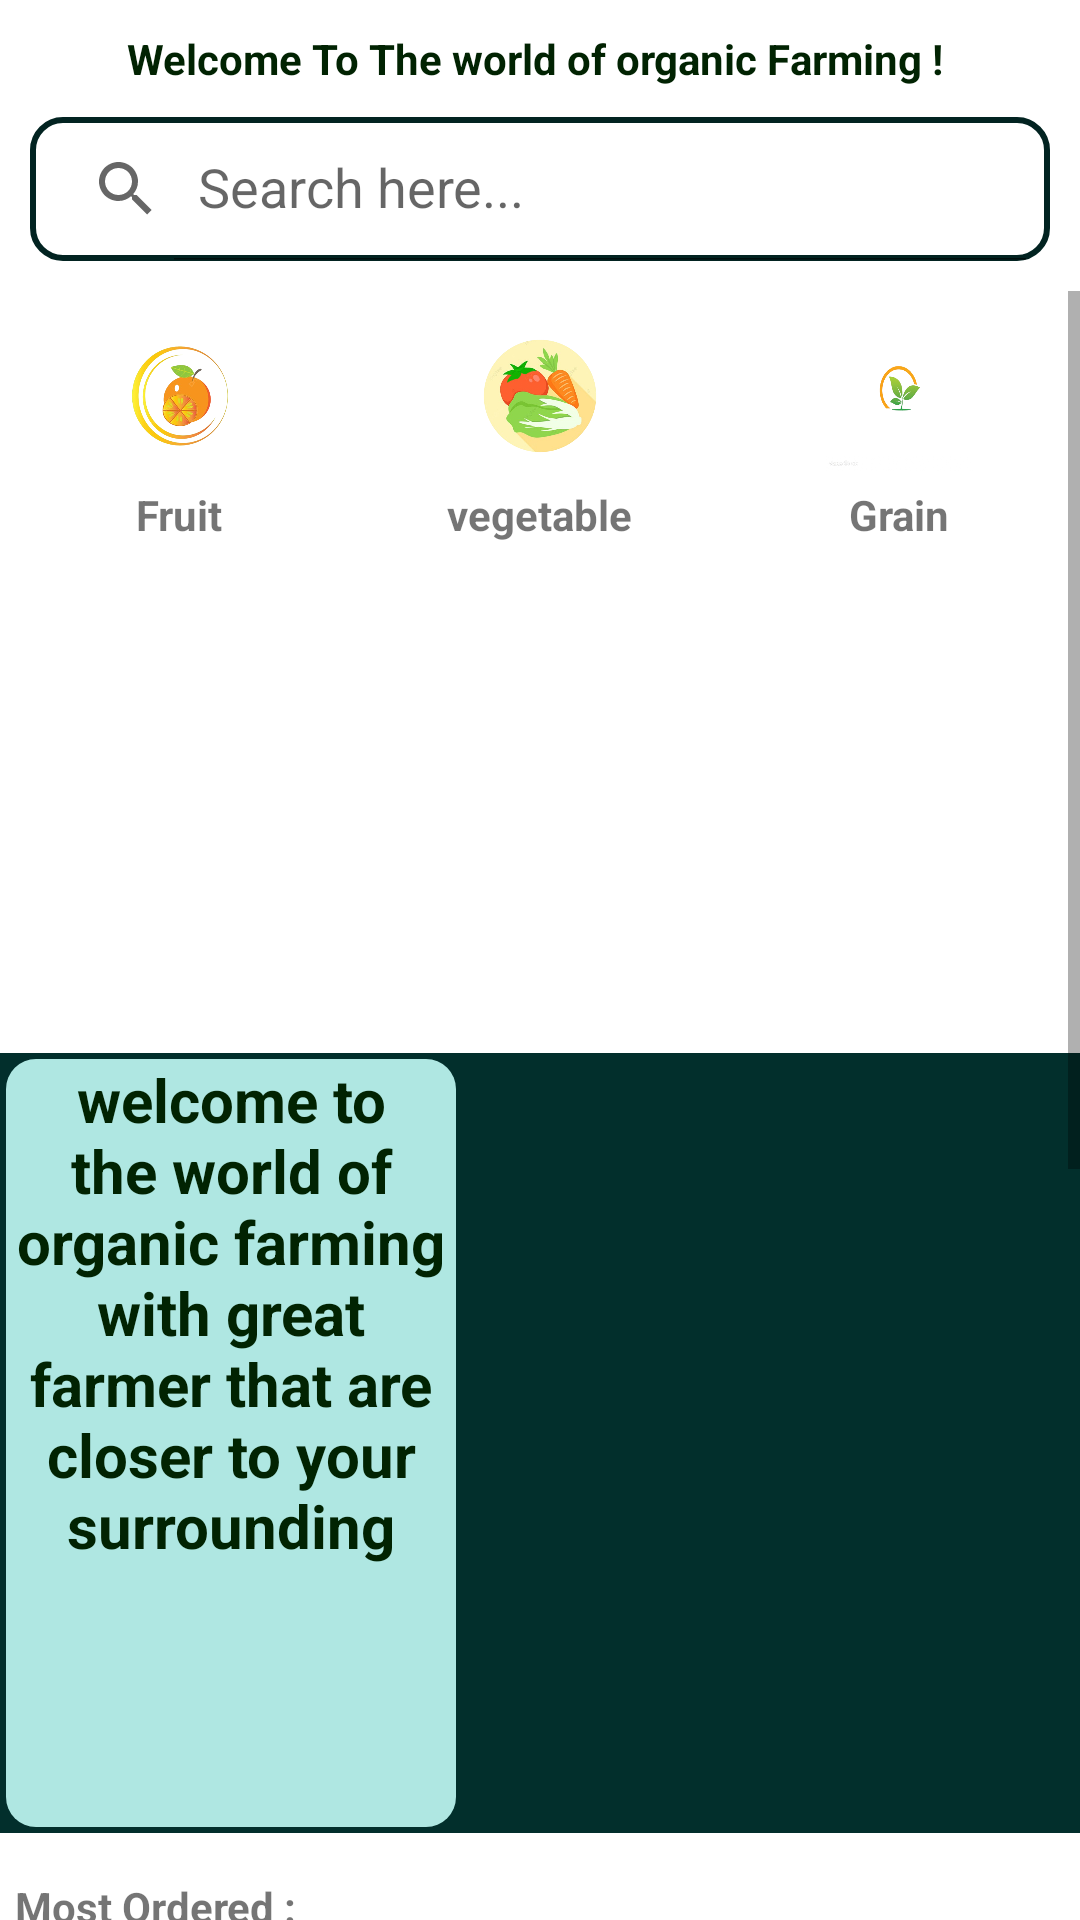

Screen size 1080px x 1920px. Icon name, then its center in pixels as (x=x, y=y):
veg: (x=540, y=396)
